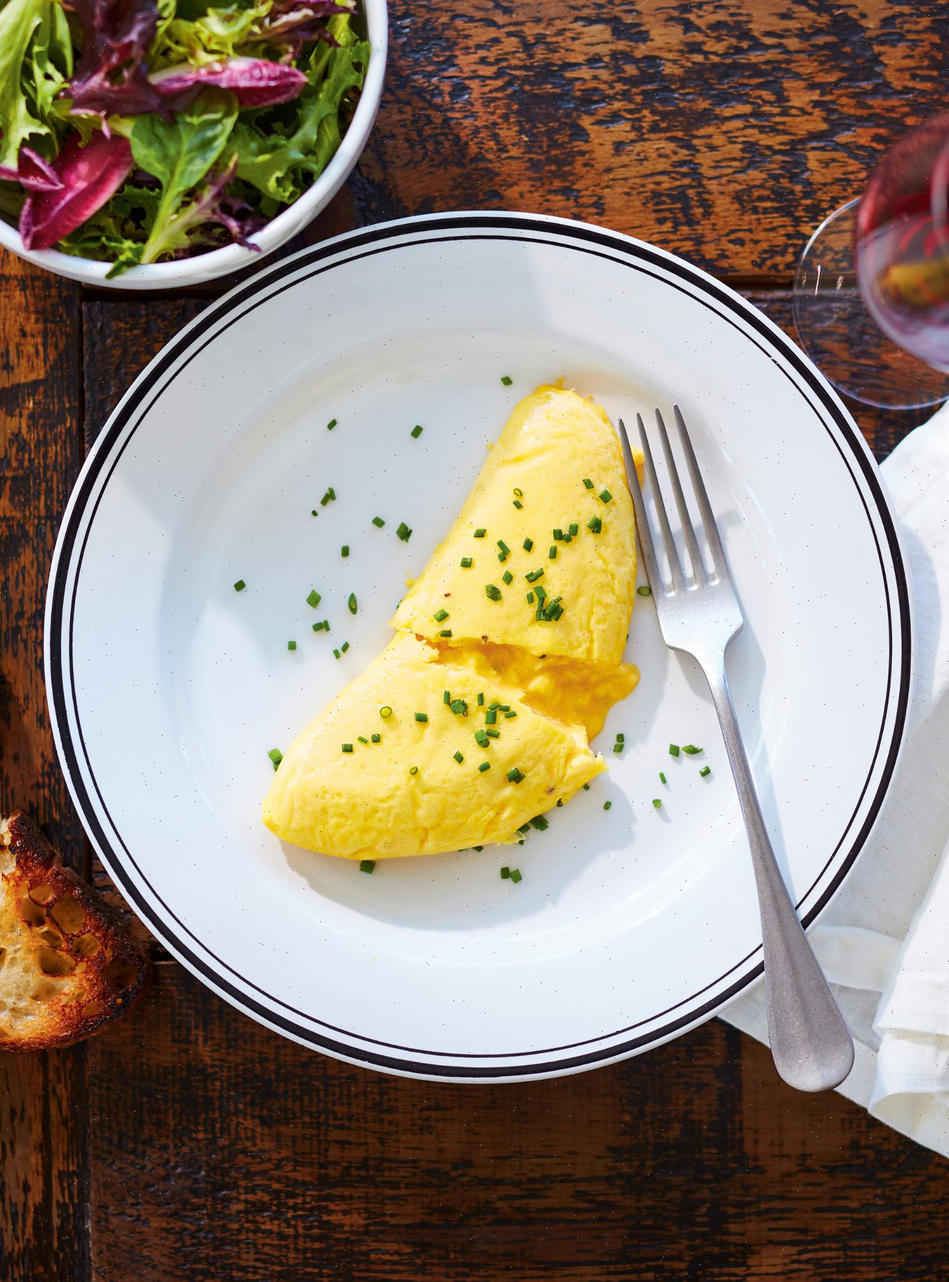omelette: (288, 392, 643, 937)
